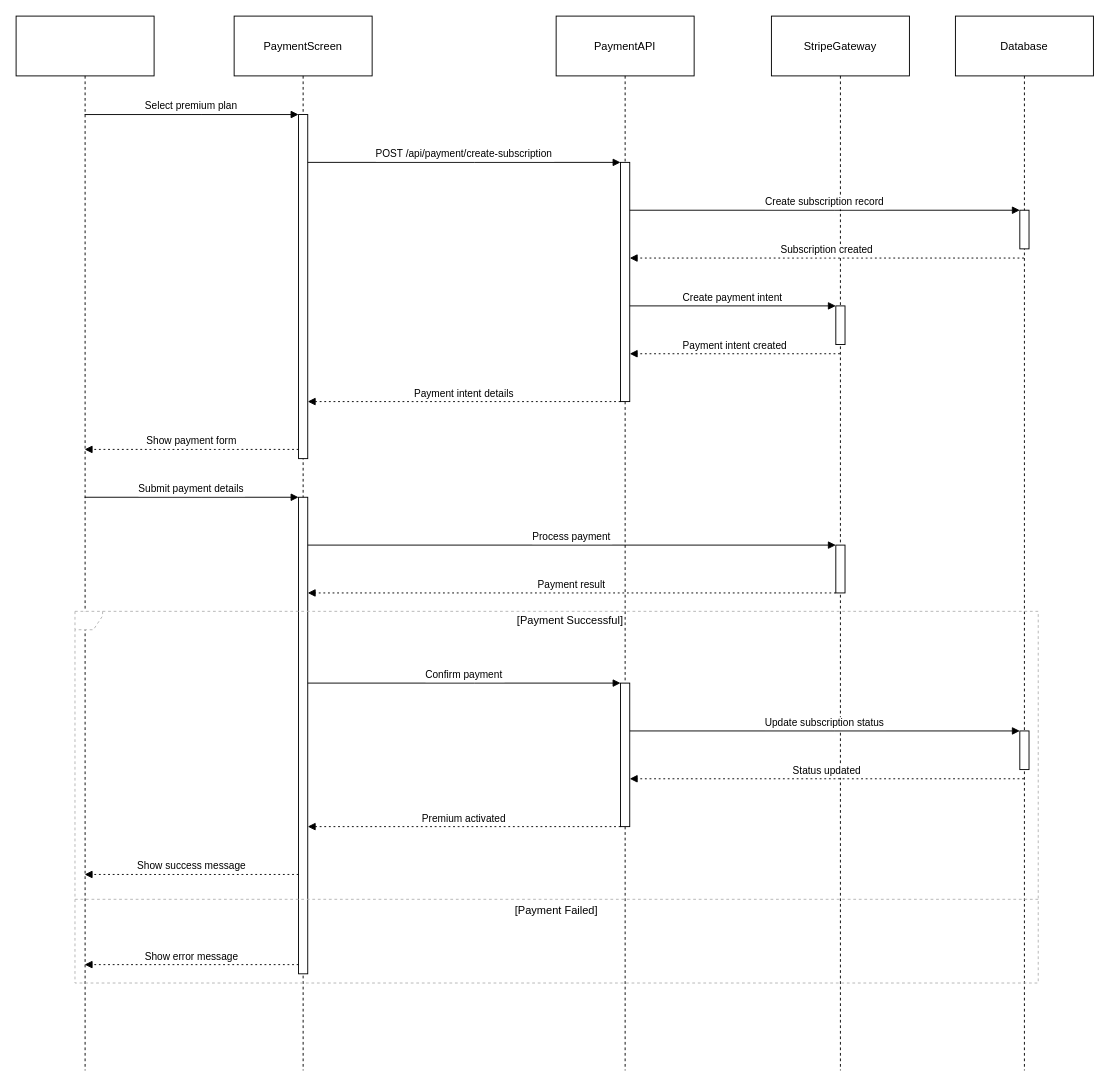
Image size: 1110x1087. Some labels were removed from this diagram. Each missing label, with the box of its shape:
alt: (74, 610, 1038, 983)
User: (15, 15, 154, 1070)
